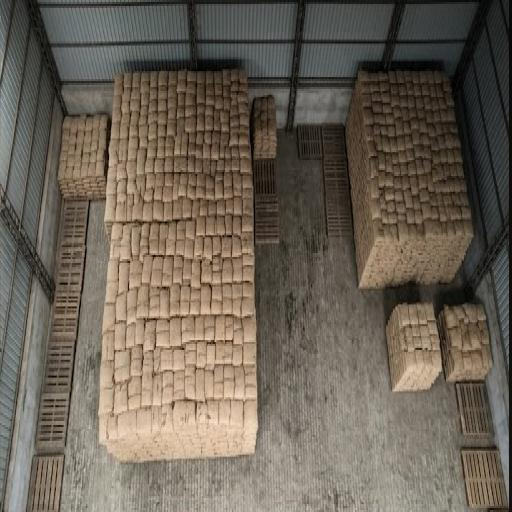Rice-bag-10: (244, 401, 257, 433), (224, 366, 234, 397), (234, 368, 244, 397), (230, 401, 242, 425), (207, 401, 218, 425), (214, 366, 223, 395), (219, 401, 230, 423), (196, 370, 204, 399), (205, 372, 213, 397)
other: (0, 0, 511, 508), (28, 128, 507, 510), (28, 200, 87, 510), (463, 156, 508, 297), (477, 277, 507, 478), (298, 125, 349, 231), (461, 447, 507, 508), (253, 158, 278, 241), (456, 382, 492, 439)
pile: (101, 71, 256, 459), (346, 71, 472, 287), (387, 304, 440, 389), (438, 306, 492, 380), (59, 117, 106, 196), (253, 99, 274, 156)
